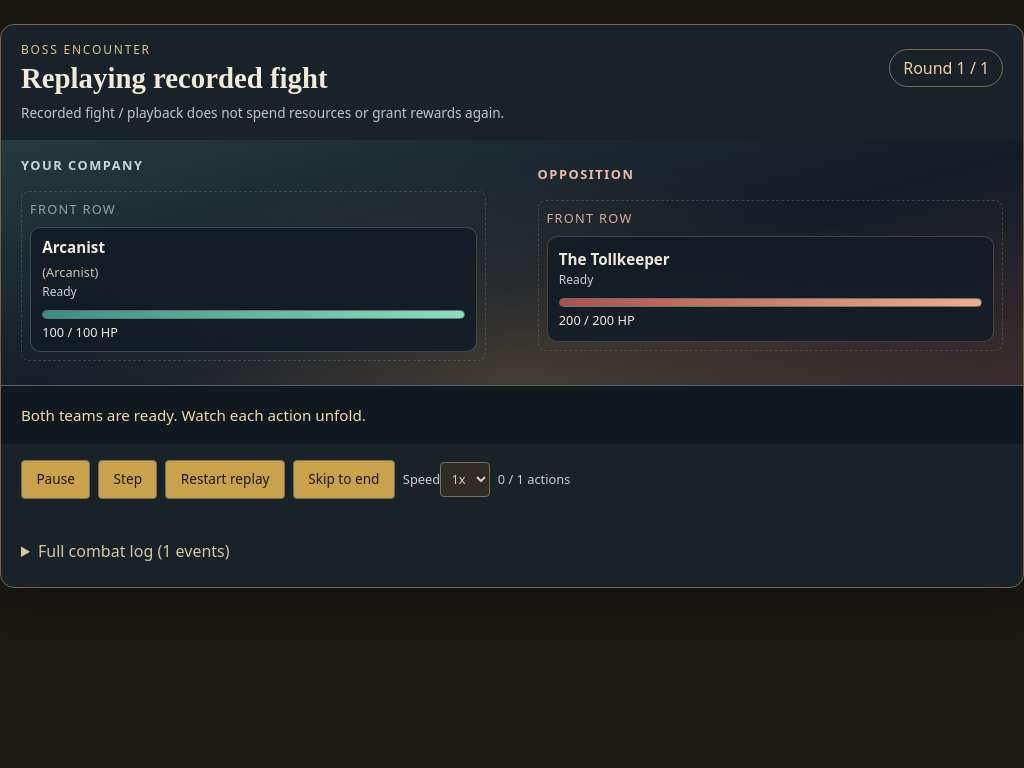
Scenario: shows a status badge with a visible duration while a buff/debuff is active
Click the button "Step" at [128, 479], box x1=98 y1=460 x2=157 y2=498
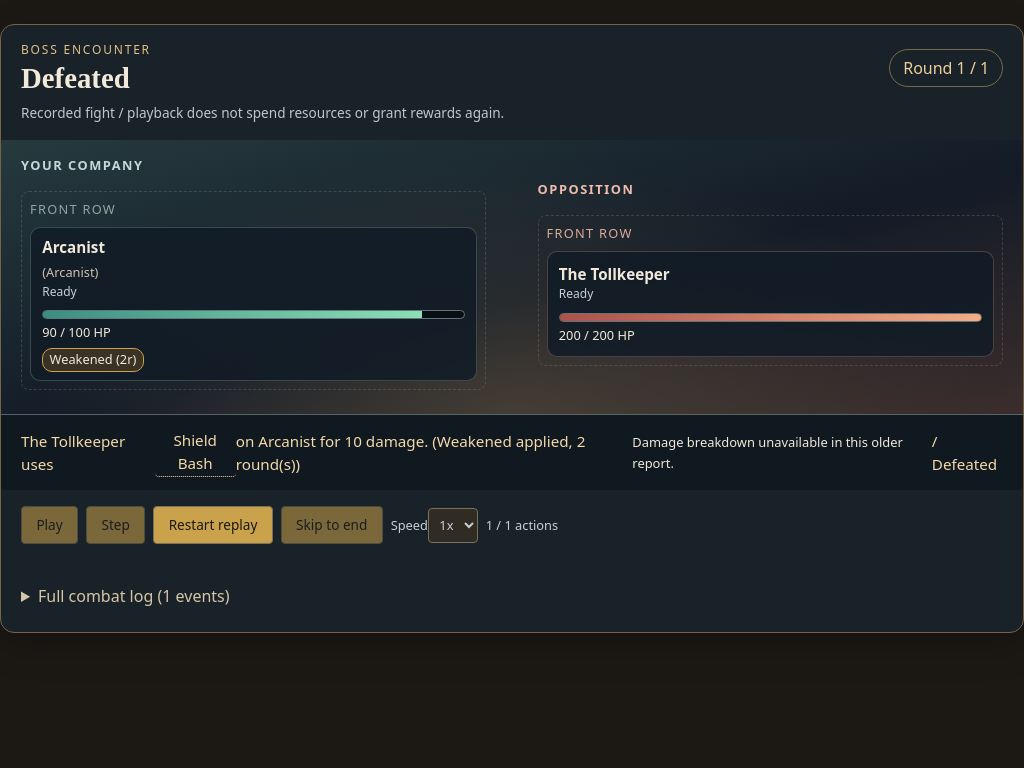
Check: the list named "Arcanist status effects" reads "Weakened (2r)", box x1=42 y1=348 x2=144 y2=372
